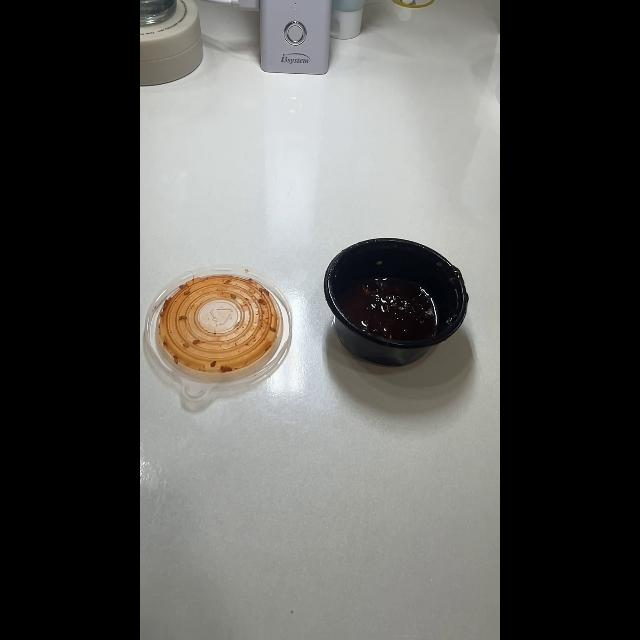dirty: (324, 246, 474, 366), (150, 272, 288, 392)
